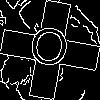O: (25, 25, 72, 77)
